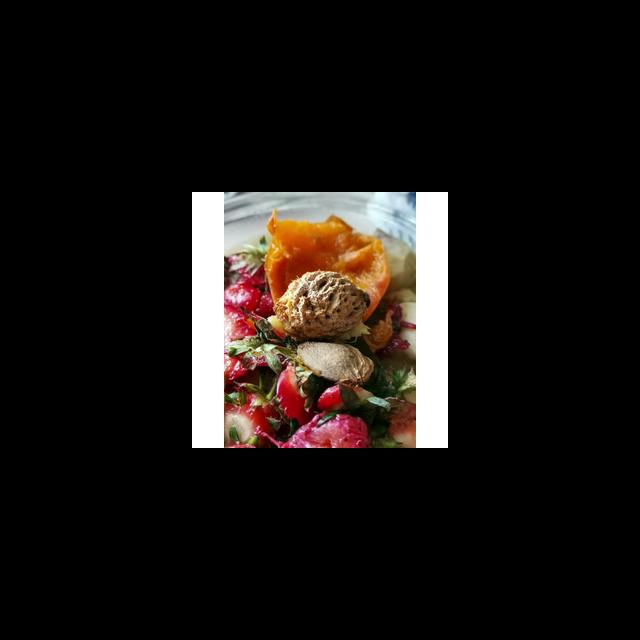food_waste: (224, 220, 414, 448)
